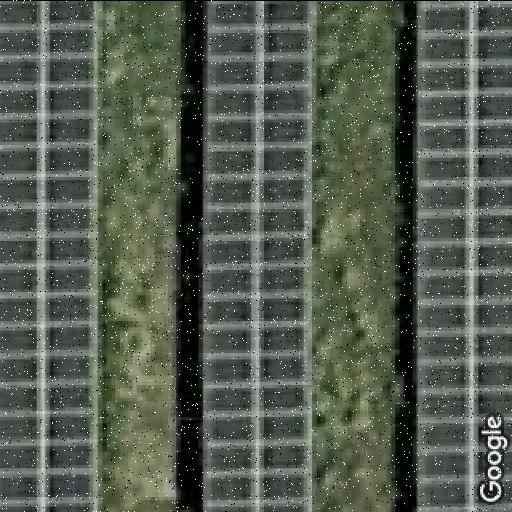solar-panel: (198, 0, 320, 512), (0, 0, 102, 512), (413, 0, 512, 512)
